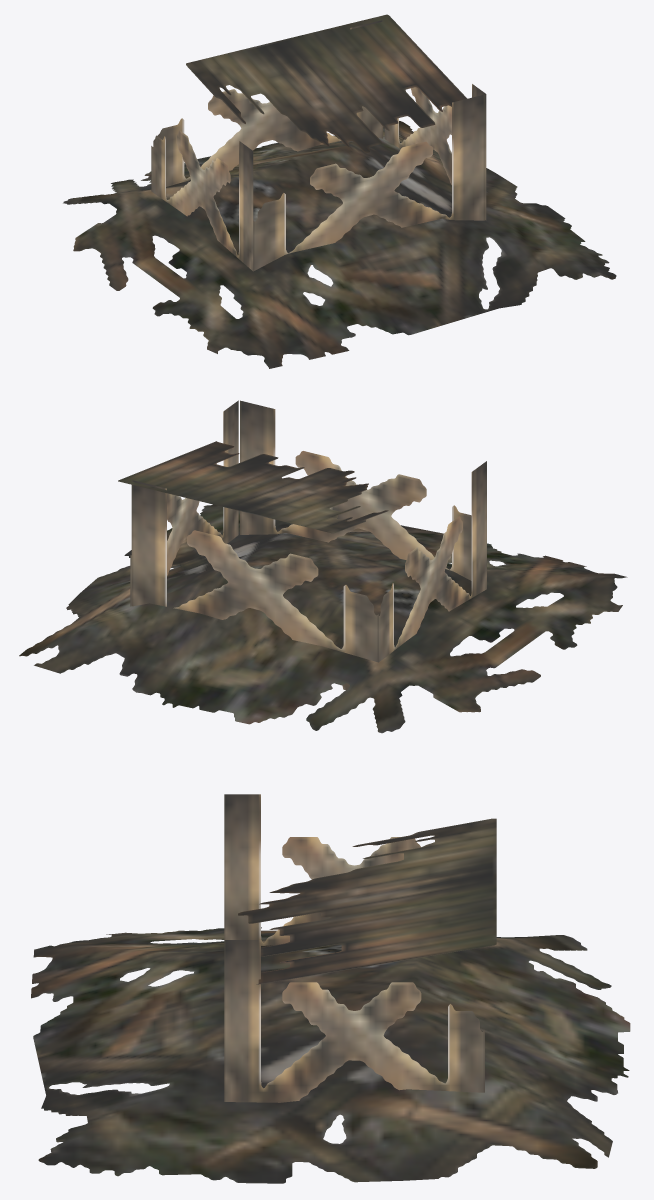
Rendered from civstoragec_dam.glb.
3 views of the same model, one above another, from view 1: azimuth 30°, elevation 25°; view 2: azimuth 150°, elevation 25°; view 3: azimuth 270°, elevation 25° (orthographic). The views are drawn at different scales.
Parts seen in each view (by area): view 1: Object02; view 2: Object02; view 3: Object02.
Part boxes in pixels (box(x1,y1,x2,y2)): Object02: box(63, 14, 616, 368); Object02: box(19, 400, 627, 733); Object02: box(31, 794, 630, 1183).
Bounding box in the file's own units: 7.48 × 2.57 × 7.6.
1 material, 1 textured.
